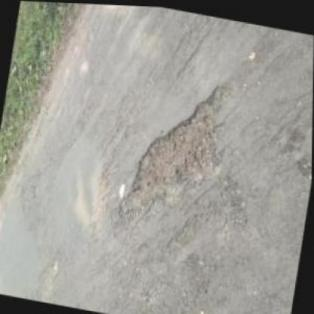Hueco: (115, 64, 238, 240)
